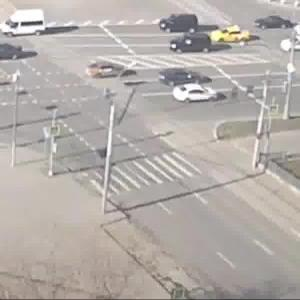car: (1, 9, 50, 37), (169, 31, 216, 57), (85, 59, 131, 82), (176, 81, 220, 105), (208, 25, 255, 45), (159, 14, 199, 37), (158, 70, 210, 85), (252, 16, 300, 32), (1, 37, 28, 65), (281, 38, 300, 54)
